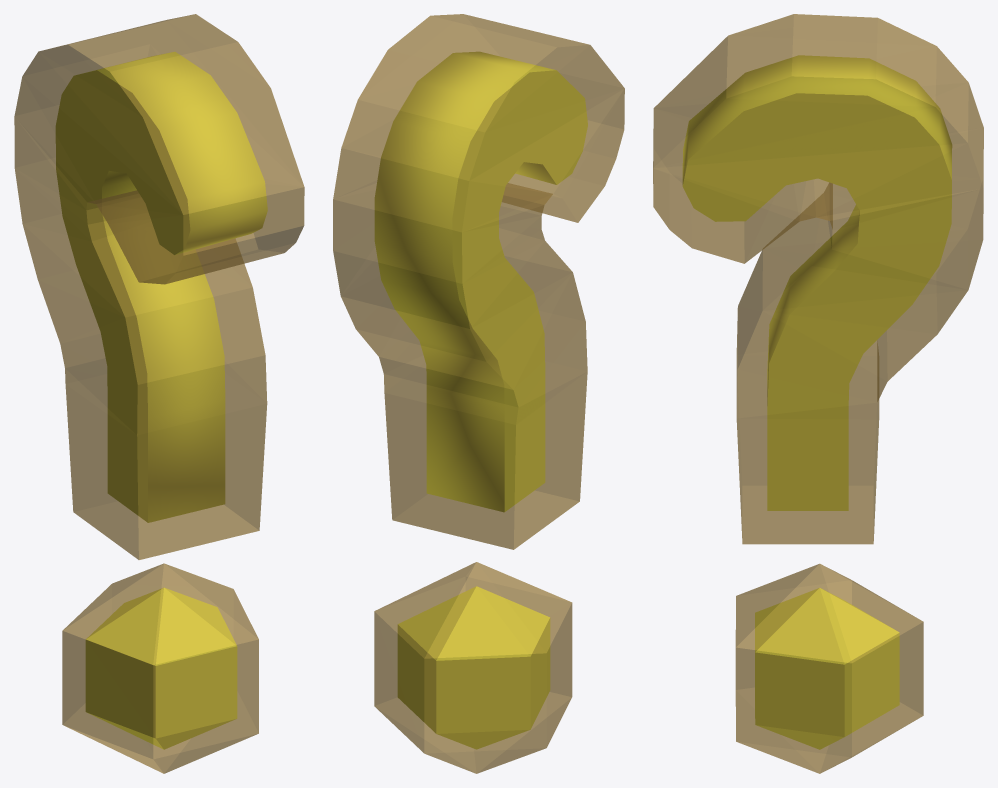
The model's file is quest_marker_b.fbx.
The picture shows the model from 3 angles, left to right: view 1: azimuth 30°, elevation 25°; view 2: azimuth 150°, elevation 25°; view 3: azimuth 270°, elevation 25°; orthographic projection.
Parts seen in each view (by area): view 1: complete; view 2: complete; view 3: complete.
Part boxes in pixels (x1,y1,x2,y2): complete: (14, 14, 304, 773); complete: (333, 14, 624, 773); complete: (653, 14, 983, 773).
Bounding box in the file's own units: 221 × 897 × 370.
